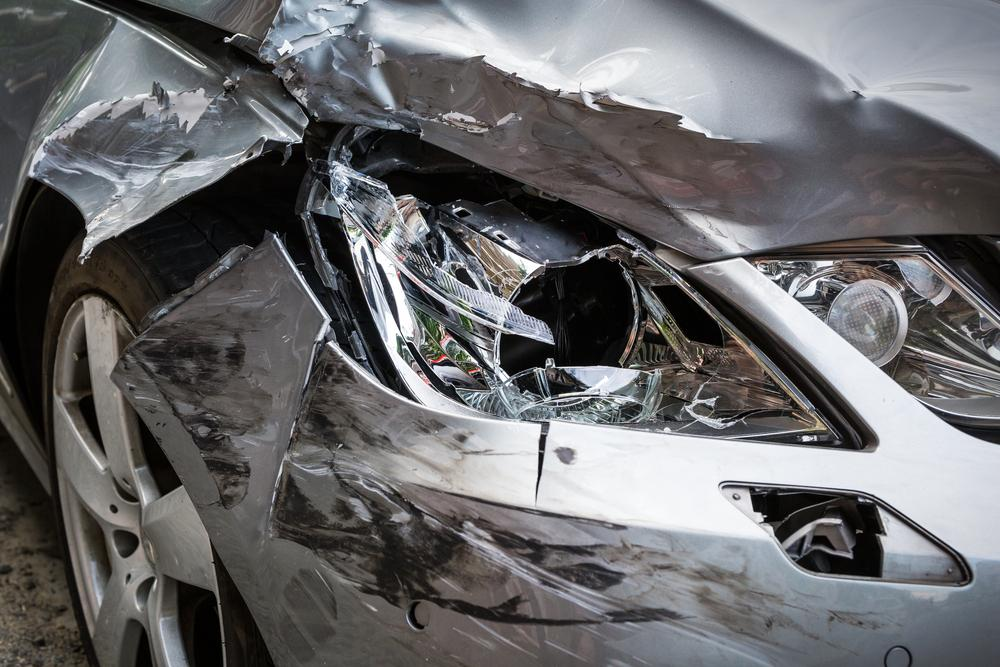crack: (522, 420, 551, 510)
dent: (262, 0, 1000, 245), (130, 235, 327, 541), (27, 86, 291, 246)
lamp broken: (293, 116, 863, 454)
scratch: (265, 321, 897, 667)
